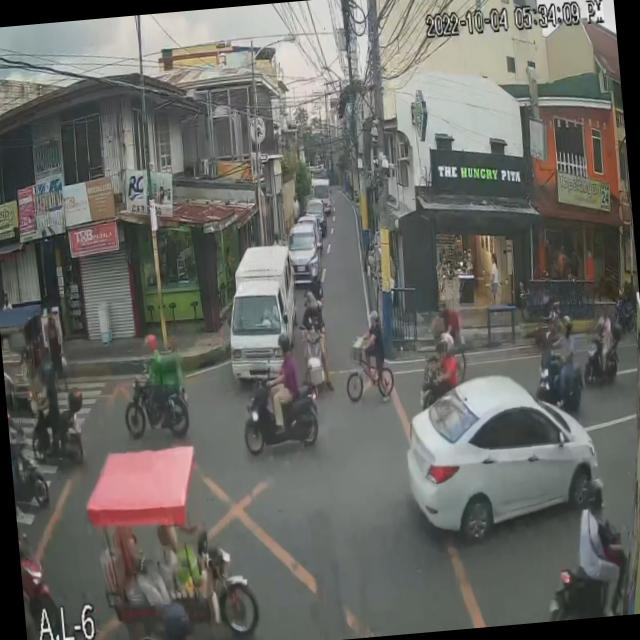half: (584, 477, 607, 514), (276, 328, 293, 358), (439, 331, 457, 356), (142, 333, 156, 352)
